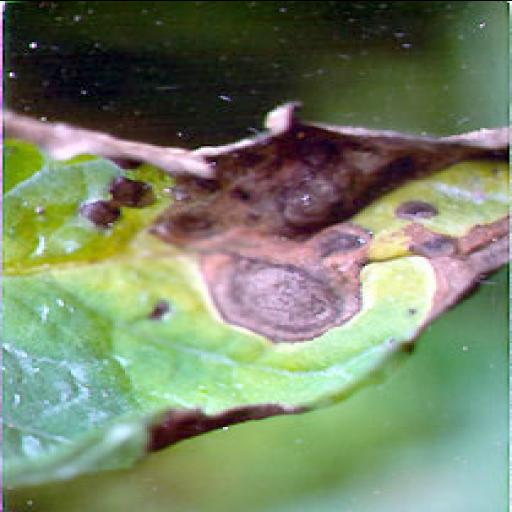Early Blight: (5, 100, 509, 488)
